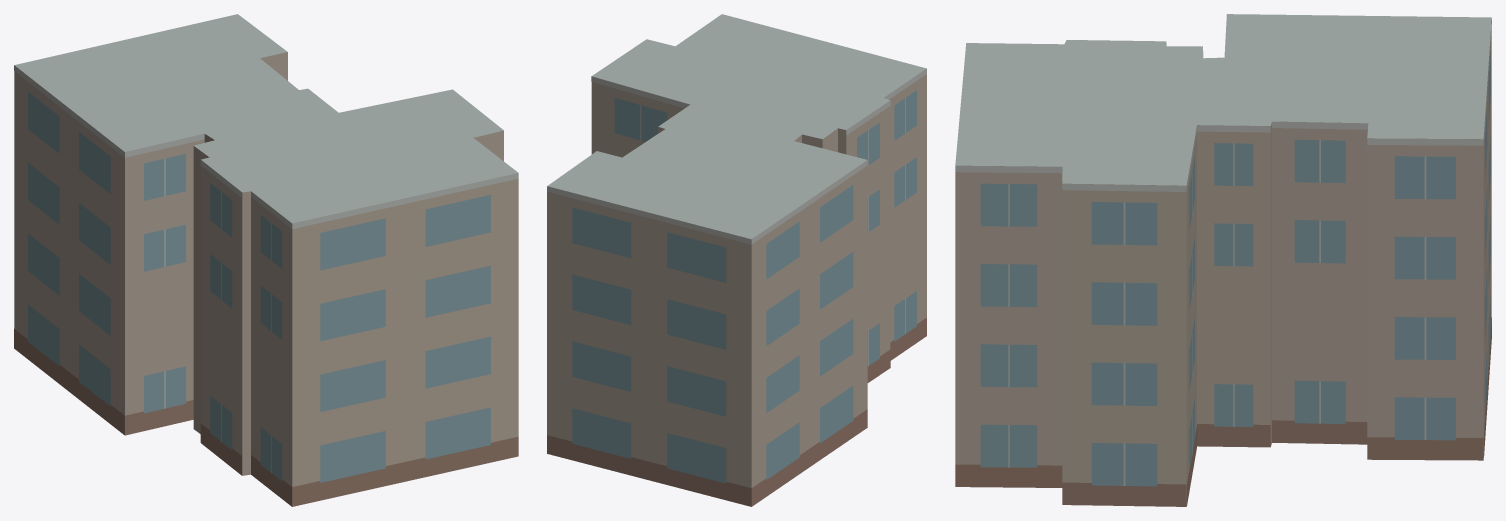
The model's file is survey-upis-32799372.glb.
3 views of the same model, side by side, from view 1: azimuth 30°, elevation 25°; view 2: azimuth 150°, elevation 25°; view 3: azimuth 270°, elevation 25° (orthographic). The views are drawn at different scales.
Parts seen in each view (by area): view 1: survey-upis-32799372.tmp; view 2: survey-upis-32799372.tmp; view 3: survey-upis-32799372.tmp.
Part boxes in pixels (left/top/right/bottom): survey-upis-32799372.tmp: left=14, top=14, right=518, bottom=506; survey-upis-32799372.tmp: left=547, top=14, right=926, bottom=506; survey-upis-32799372.tmp: left=955, top=14, right=1491, bottom=506.
Size of the model in its own units: 13.87 by 12.1 by 18.32.
